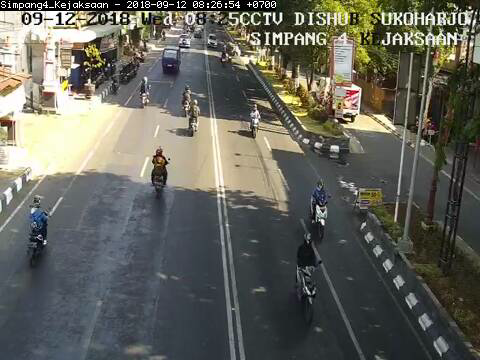motor: (293, 232, 322, 327), (309, 175, 331, 242), (247, 102, 264, 140)
